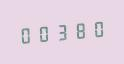eight: (69, 19, 85, 41)
three: (52, 20, 68, 43)
zero: (18, 23, 34, 46), (86, 17, 102, 40), (35, 22, 51, 44)
